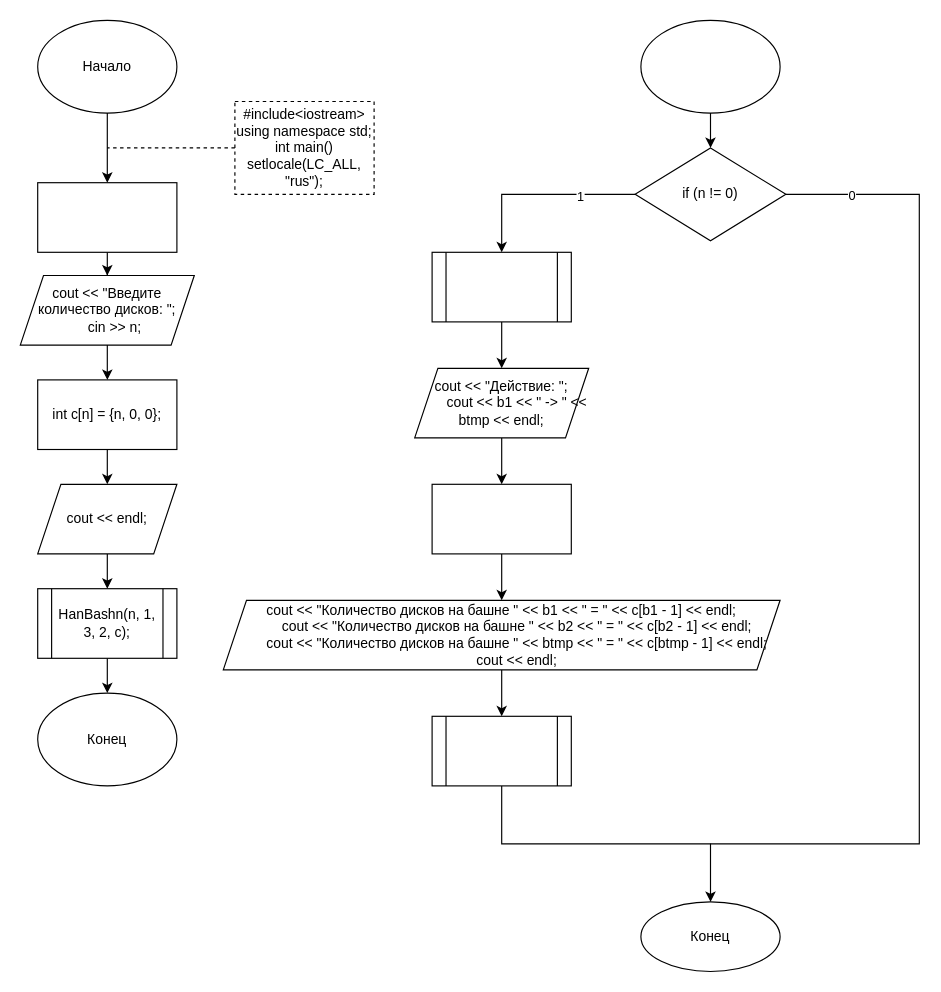
Some shapes in this 941 by 992 pixel diagram are drawn without their labels. The centre of each missing label's shape, as x and y in pixels:
"c[b1 - 1] -= 1; c[btmp - 1] += 1;" goes at point 501,518.
"HanBashn(n - 1, b1, b2, btmp, c);" goes at point 501,286.
"HanBashn(n - 1, b2, btmp, b1, c);" goes at point 501,750.
"int n;" goes at point 107,217.
"void HanBashn(int n, int b1, int btmp, int b2, int c[])" goes at point 710,66.
